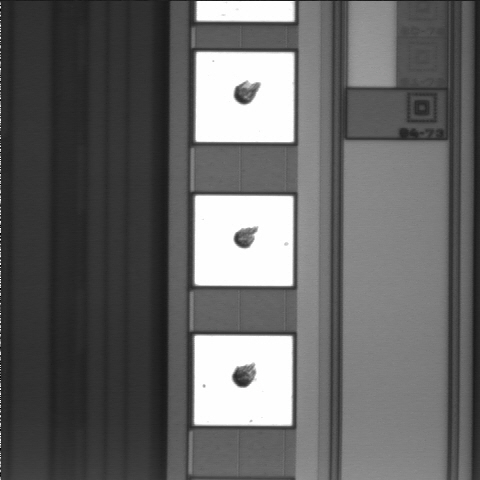pad: (194, 335, 292, 426), (196, 52, 294, 142), (195, 196, 293, 286)
